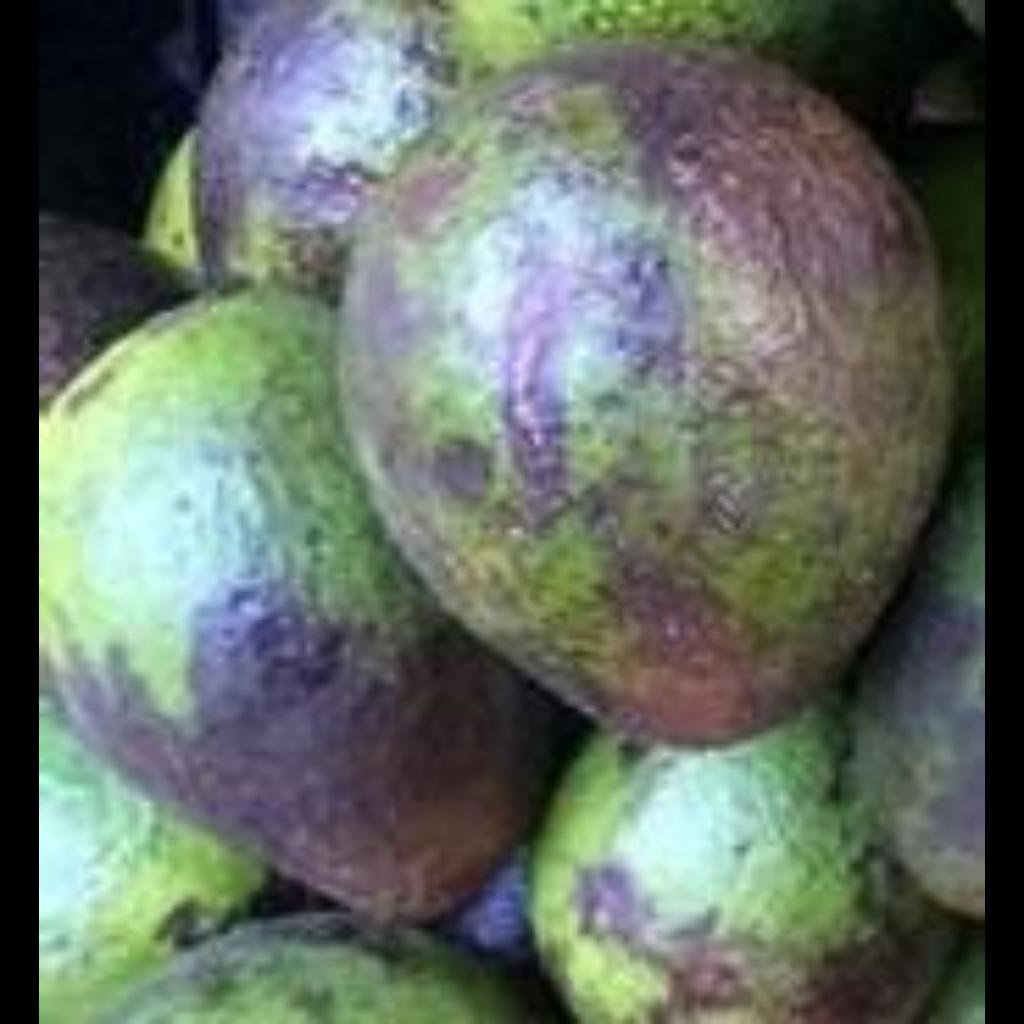Anthracnose: (364, 70, 960, 732), (70, 554, 532, 944), (554, 757, 982, 1019)
